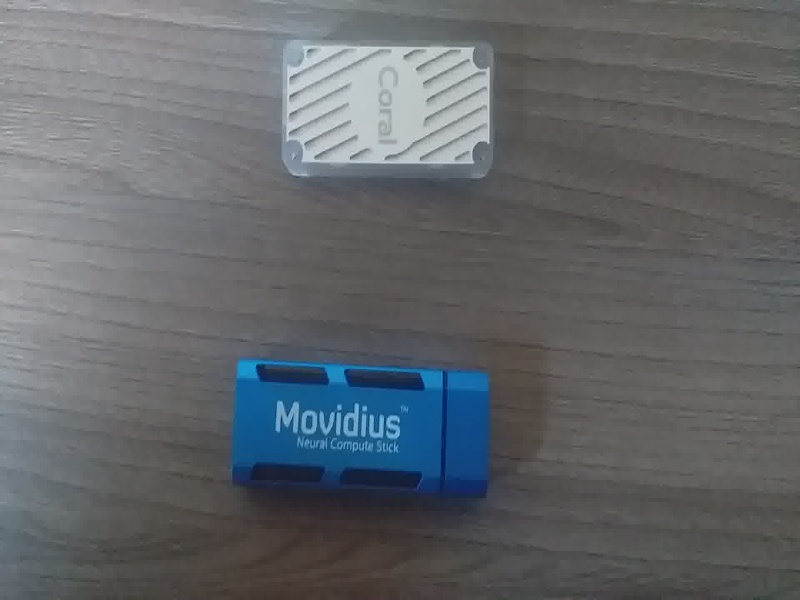coral: (272, 30, 515, 190)
movidius: (231, 353, 507, 506)
